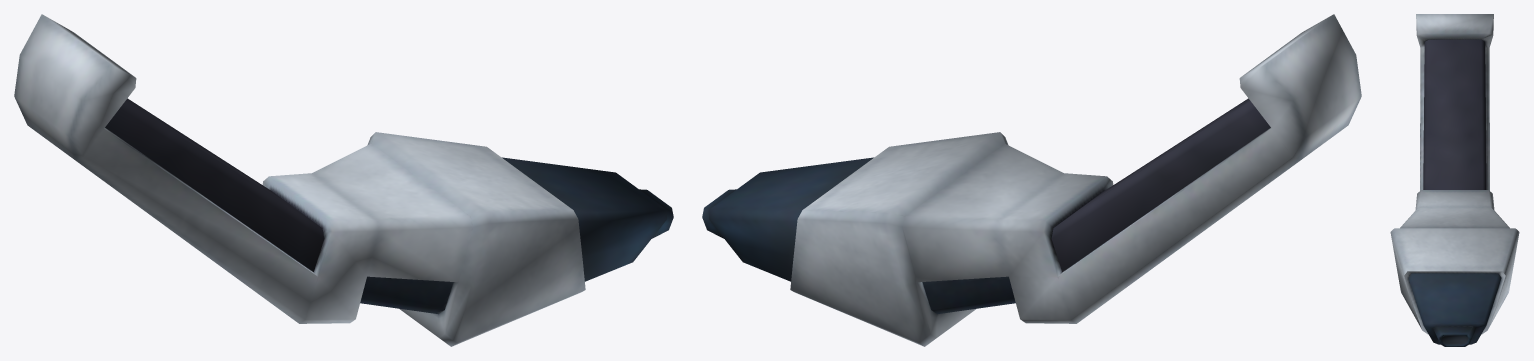
Rendered from phaser2_item.obj.
3 views of the same model, side by side, from view 1: azimuth 30°, elevation 25°; view 2: azimuth 150°, elevation 25°; view 3: azimuth 270°, elevation 25° (orthographic). The views are drawn at different scales.
Visible parts, largest first — view 1: Base; view 2: Base; view 3: Base.
Part boxes in pixels (x1,y1,x2,y2): Base: [14, 14, 673, 346]; Base: [702, 14, 1361, 346]; Base: [1390, 14, 1519, 346].
Bounding box in the file's own units: 1.2 × 0.658 × 0.3967.
